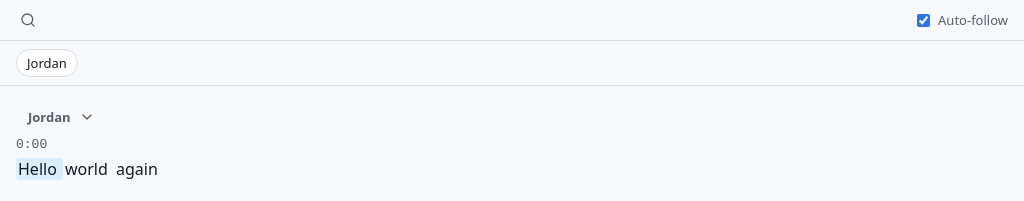
Test: TranscriptViewer › escape cancels an in-progress edit without sending a request
Press the mouse on the text "world" at (86, 169), box 65,158 -> 108,180
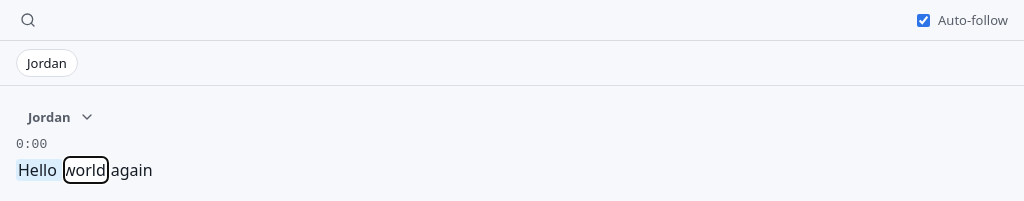
Replace the text in the field showing "world" with "earth" at (86, 170), box 63,156 -> 109,184
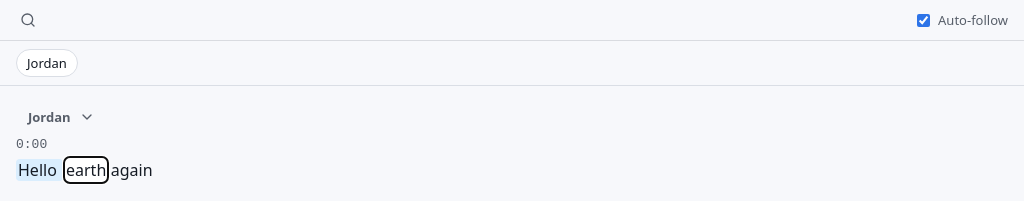
Press Escape in the field showing "world", box 63,156 -> 109,184
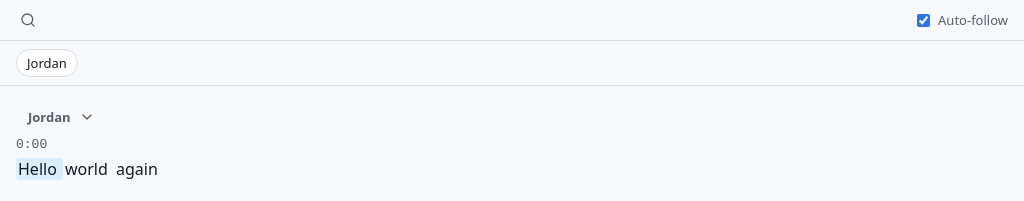
Check: the text "world" is shown, box 65,158 -> 108,180
